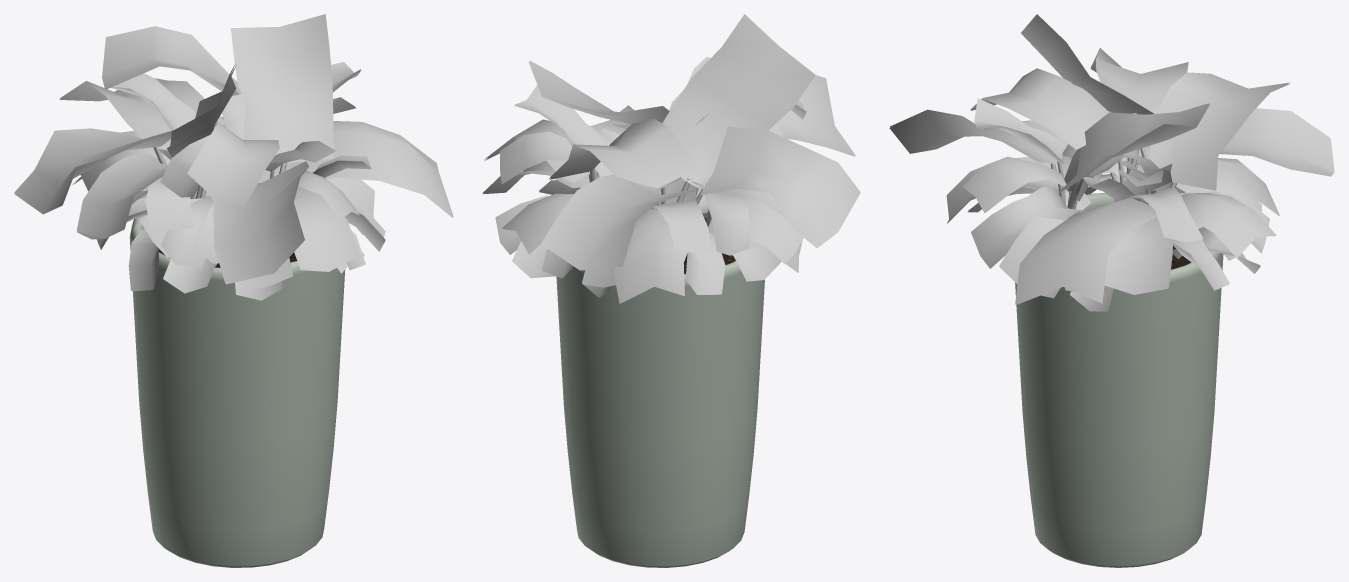
The model's file is plant.fbx.
3 renders of one model, left to right at view 1: azimuth 30°, elevation 25°; view 2: azimuth 150°, elevation 25°; view 3: azimuth 270°, elevation 25°, orthographic. The views are drawn at different scales.
Visible parts, largest first — view 1: potTall_aglaonema.001; view 2: potTall_aglaonema.001; view 3: potTall_aglaonema.001.
Part boxes in pixels (left/top/right/bottom): potTall_aglaonema.001: left=14, top=14, right=453, bottom=567; potTall_aglaonema.001: left=482, top=14, right=860, bottom=567; potTall_aglaonema.001: left=889, top=14, right=1334, bottom=567.
Size of the model in its own units: 1.25 by 1.3 by 1.61.
